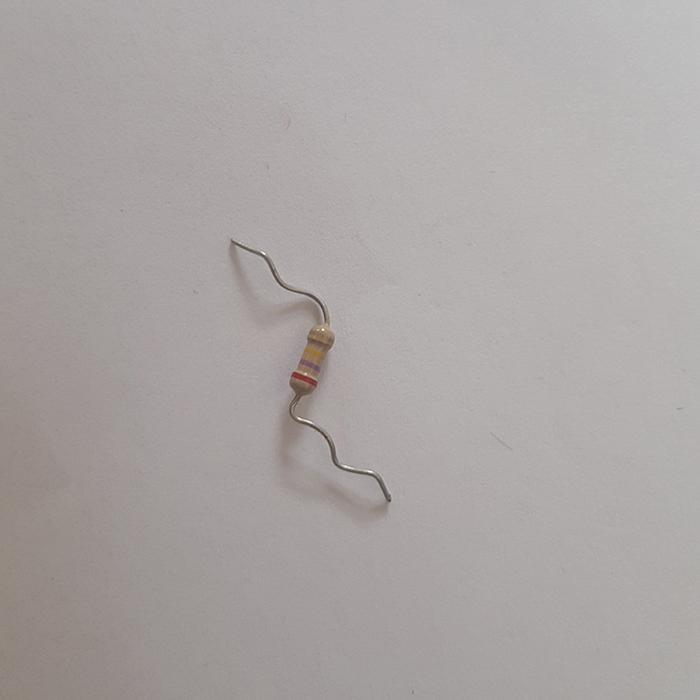resistor: (289, 322, 336, 395)
